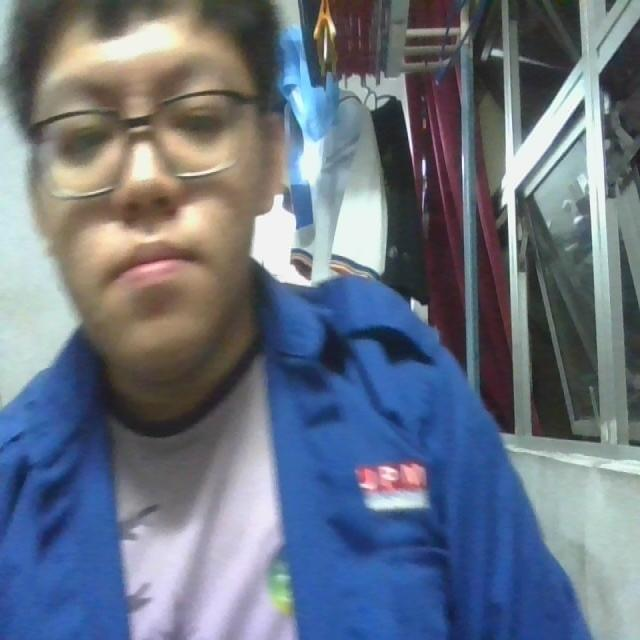person_with_labcoat: (0, 0, 588, 639), (257, 274, 589, 639)
